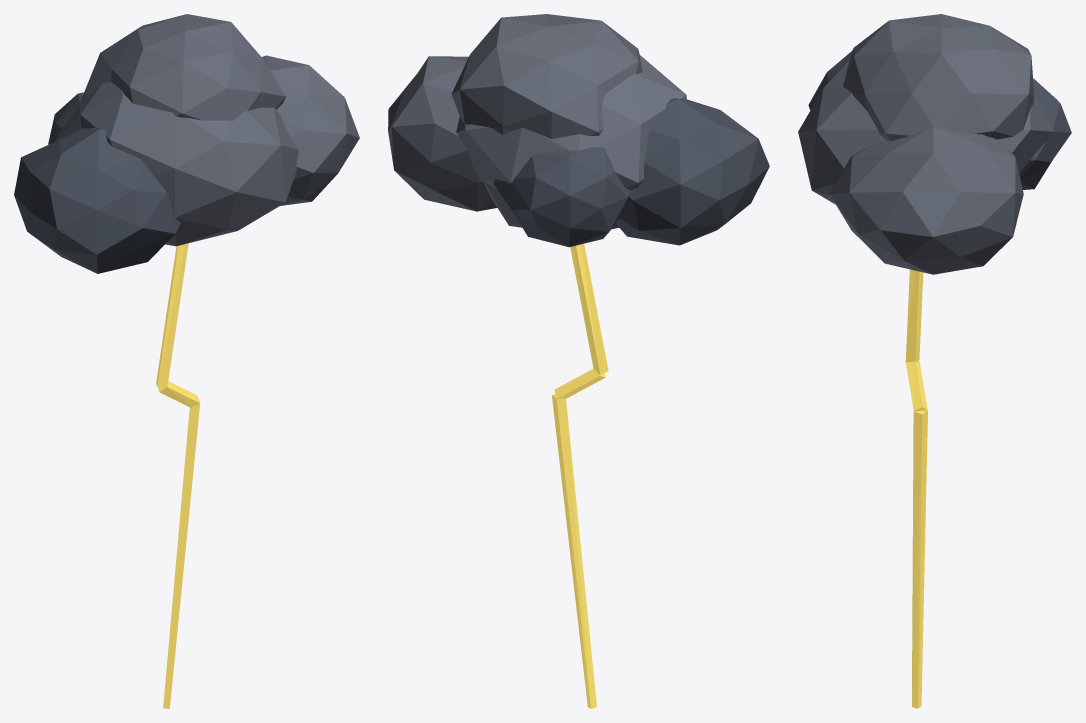
File: nuage-orage.glb
3 renders of one model, left to right at view 1: azimuth 30°, elevation 25°; view 2: azimuth 150°, elevation 25°; view 3: azimuth 270°, elevation 25°, orthographic. The views are drawn at different scales.
Size of the model in its own units: 2.11 by 4 by 1.43.
